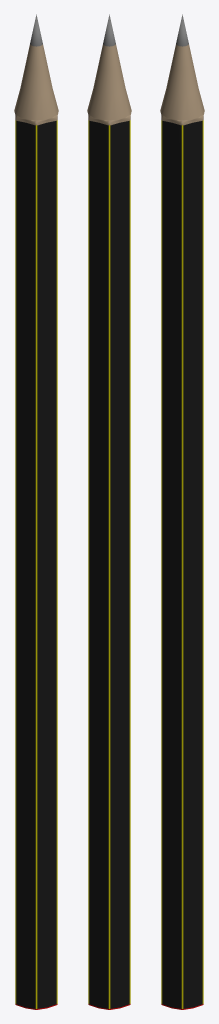
Rendered from 3D_pencil_01.fbx.
3 views of the same model, side by side, from view 1: azimuth 30°, elevation 25°; view 2: azimuth 210°, elevation 25°; view 3: azimuth 330°, elevation 25° (orthographic).
Visible parts, largest first — view 1: pencil_01; view 2: pencil_01; view 3: pencil_01.
Boxes of the visible parts, x1,y1,x2,y2 form: pencil_01: (14, 14, 58, 1009); pencil_01: (87, 14, 131, 1009); pencil_01: (160, 14, 204, 1009).
Bounding box in the file's own units: 3.01 × 68.08 × 2.78.
